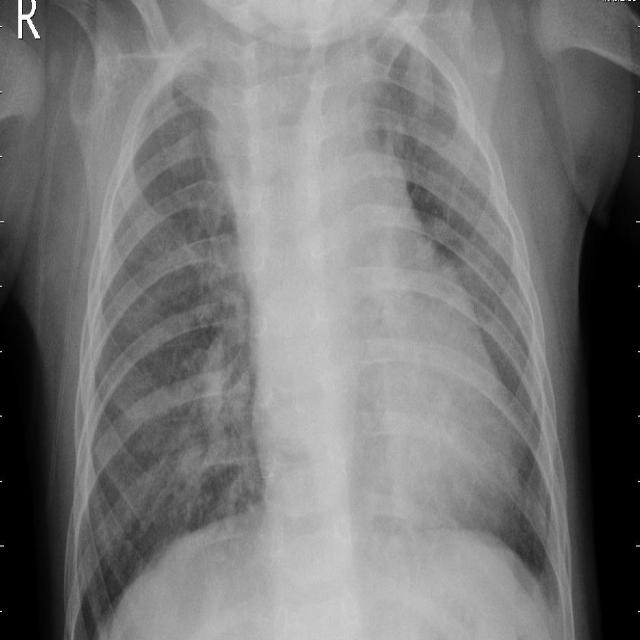low-pneumonia: (139, 239, 261, 520), (369, 45, 501, 227), (135, 47, 229, 228)
